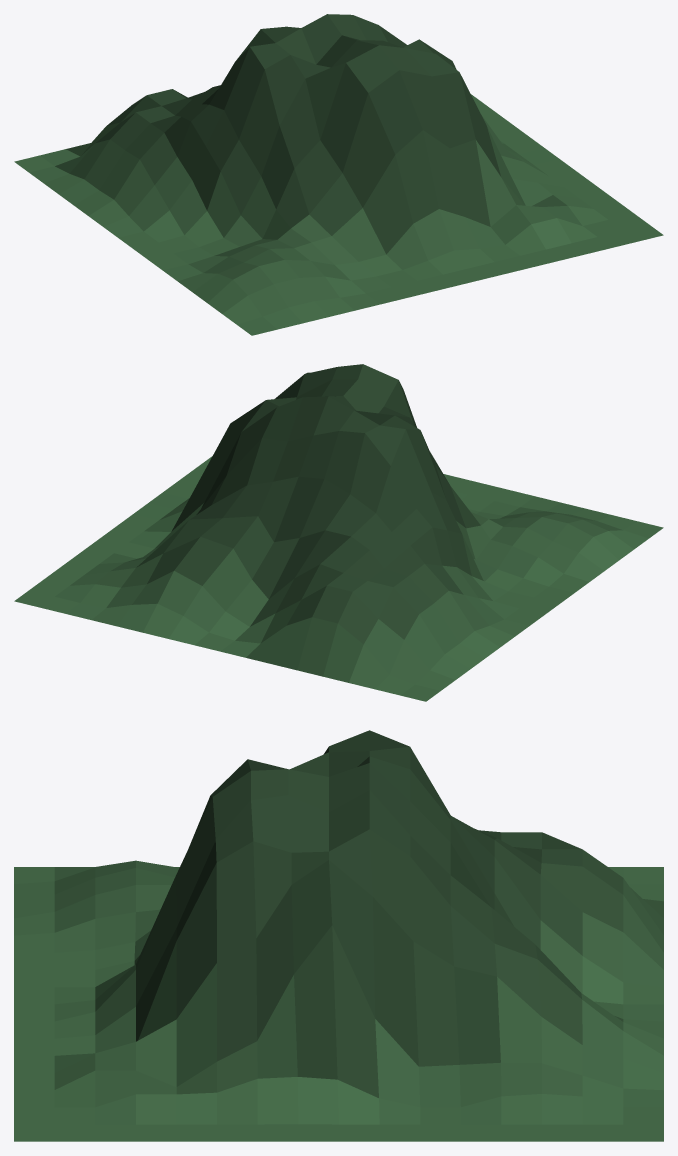
Rendered from Terrain_24_Light_Green.fbx.
3 renders of one model, top to bottom at view 1: azimuth 30°, elevation 25°; view 2: azimuth 150°, elevation 25°; view 3: azimuth 270°, elevation 25°, orthographic. The views are drawn at different scales.
Visible parts, largest first — view 1: Terrain_24_Light_Green; view 2: Terrain_24_Light_Green; view 3: Terrain_24_Light_Green.
Part boxes in pixels (left/top/right/bottom): Terrain_24_Light_Green: left=14, top=14, right=663, bottom=335; Terrain_24_Light_Green: left=14, top=364, right=663, bottom=701; Terrain_24_Light_Green: left=14, top=730, right=663, bottom=1141.
Size of the model in its own units: 5000 by 2045 by 5000.
